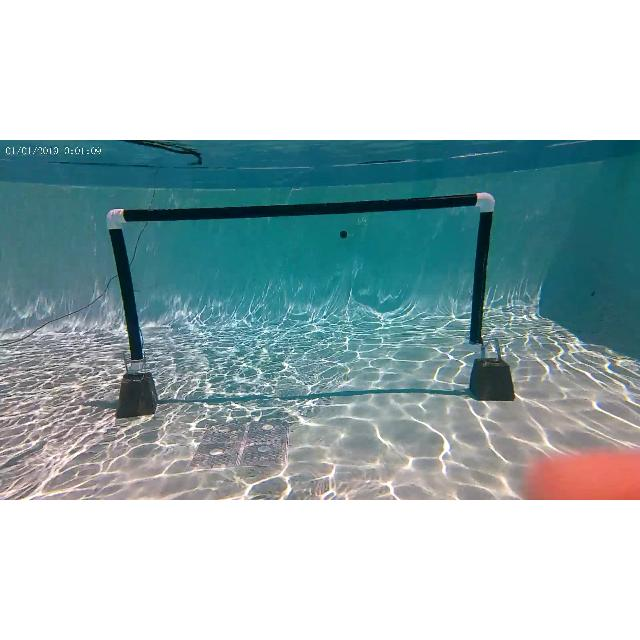prequal gate: (107, 192, 496, 368)
prequal gate leg l: (105, 200, 149, 370)
prequal gate leg r: (461, 191, 495, 353)
